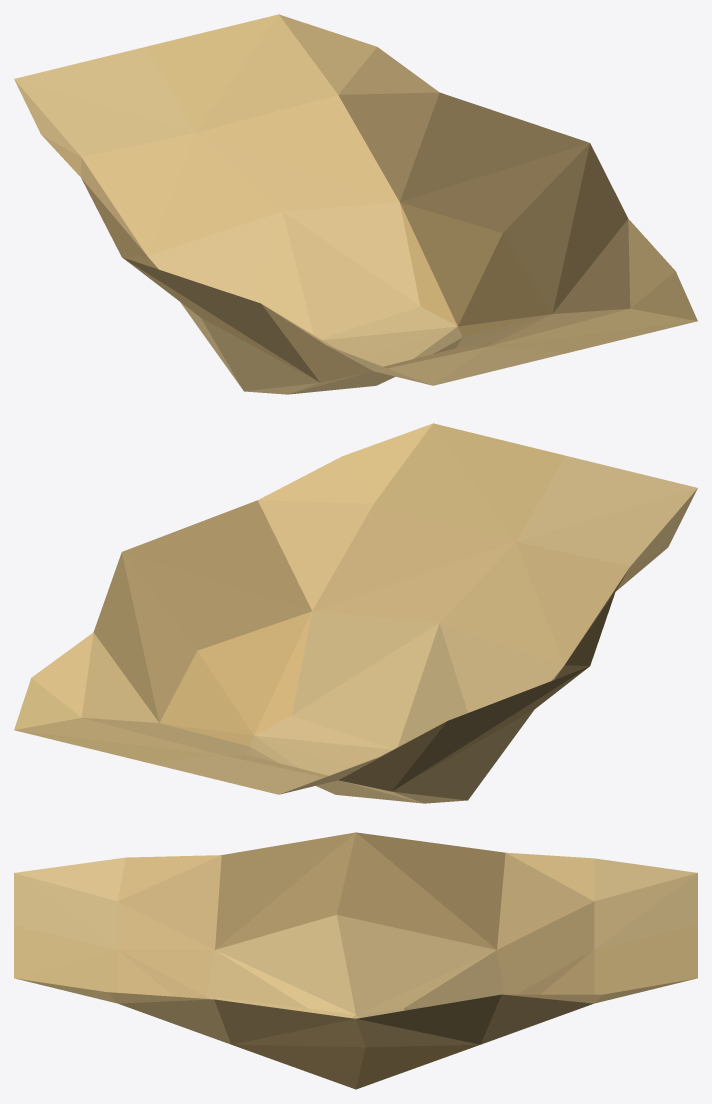
File: drmps.obj
The picture shows the model from 3 angles, top to bottom: view 1: azimuth 30°, elevation 25°; view 2: azimuth 150°, elevation 25°; view 3: azimuth 270°, elevation 25°; orthographic projection. The views are drawn at different scales.
Size of the model in its own units: 1150 by 385 by 1783.
